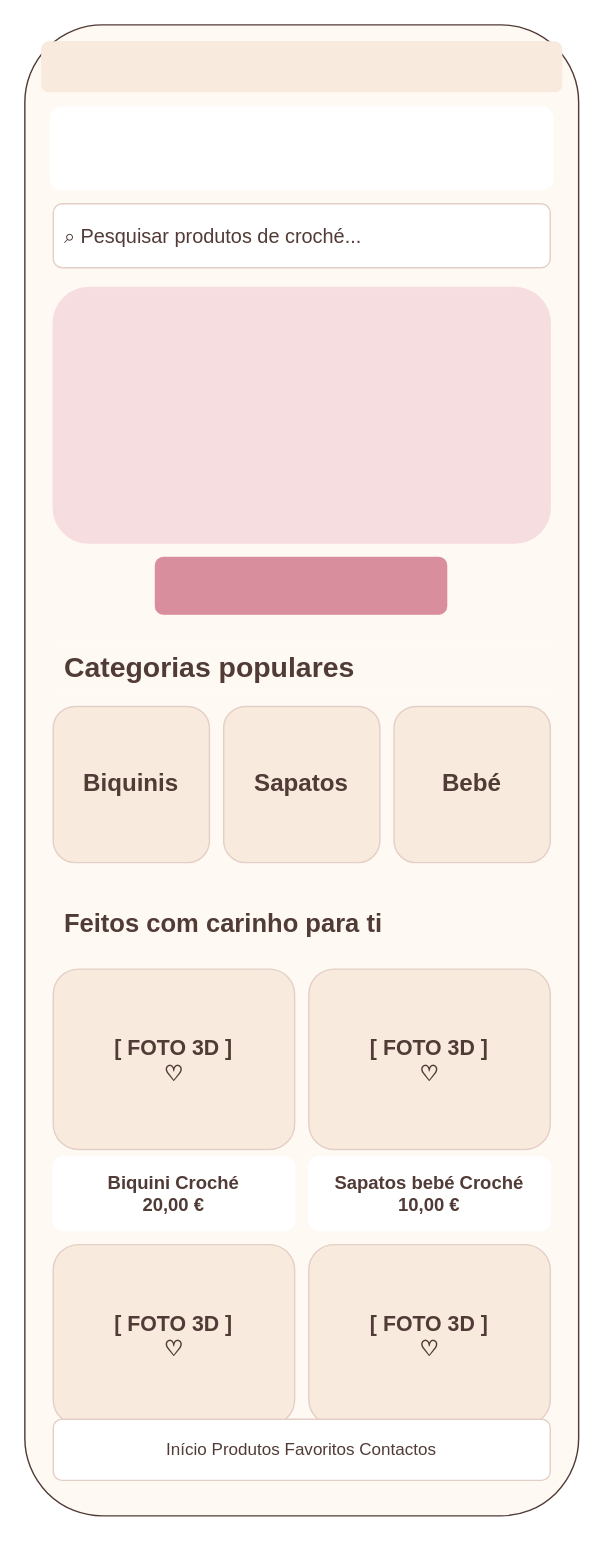
Some shapes in this 604 by 1541 pixel diagram are drawn without their labels. Here are the shapes that lost their labels. From the top down, the box of each, then its label:
(40, 40, 562, 92): ● ● ● desalinha.pt
(49, 106, 553, 190): ☰ DESALINHA ♡ 🛒
(52, 286, 550, 543): PEÇAS ÚNICAS, FEITAS À MÃO Croché [ imagem de produto ]
(154, 556, 447, 614): EXPLORAR PRODUTOS
